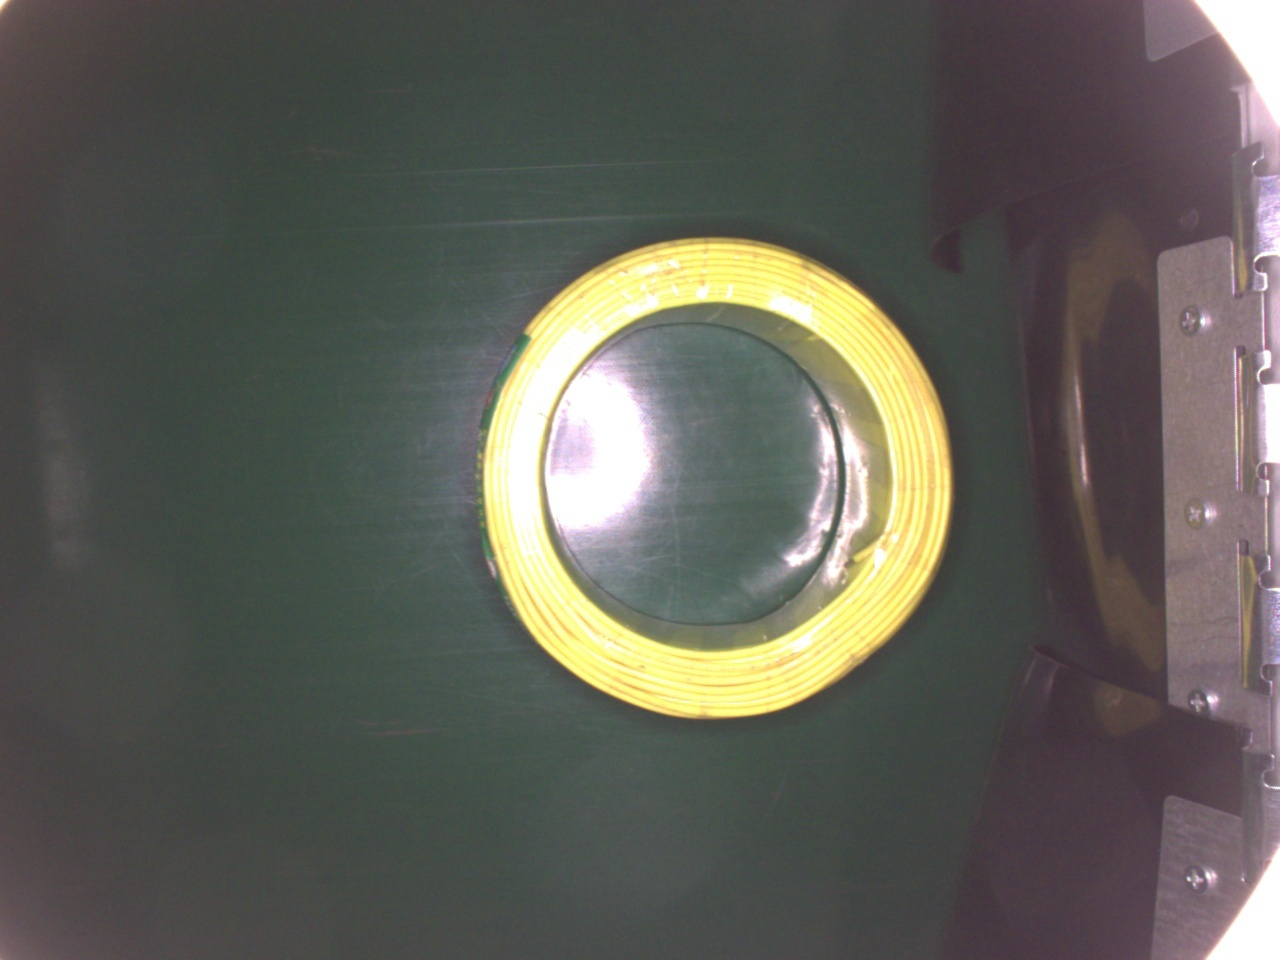yellow: (476, 231, 959, 724)
